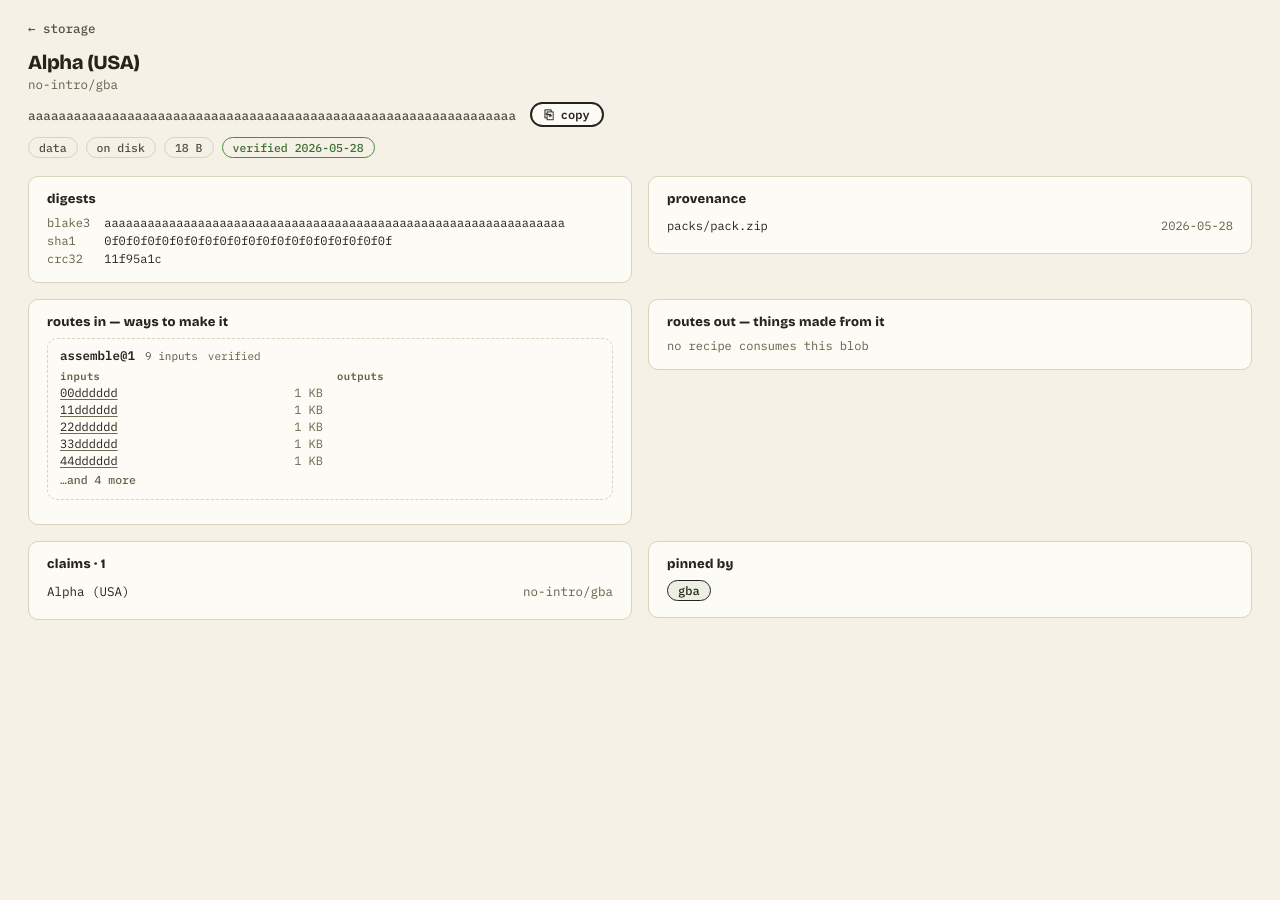
long ref lists cap at 5 with an expand-in-place tail
Expected: the text "9 inputs" is shown, [145,349,198,363]
…and the tail expands in place.
Click the button "…and 4 more" at (98, 480), box [60,470,323,489]
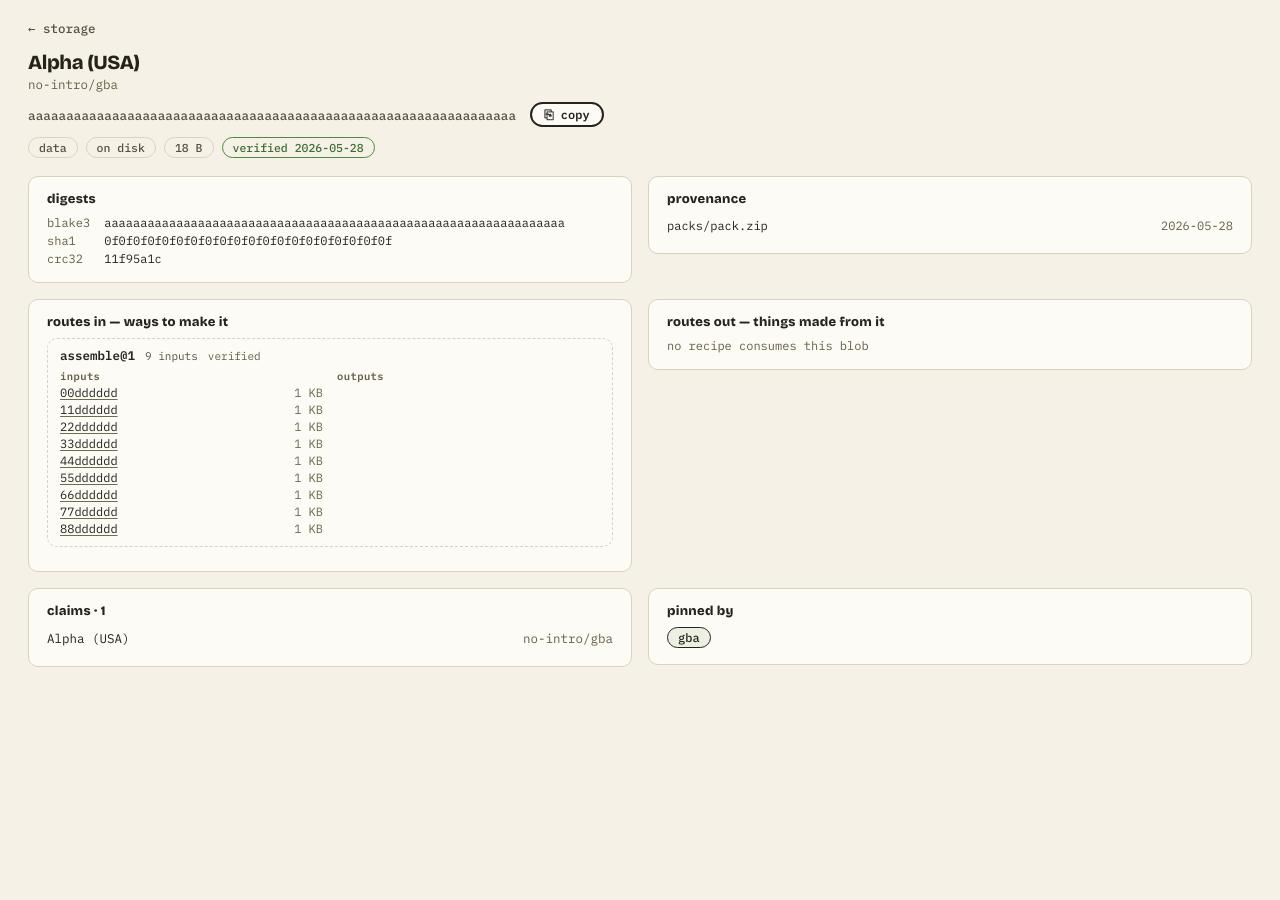
Expected: the button "…and 4 more" is gone
